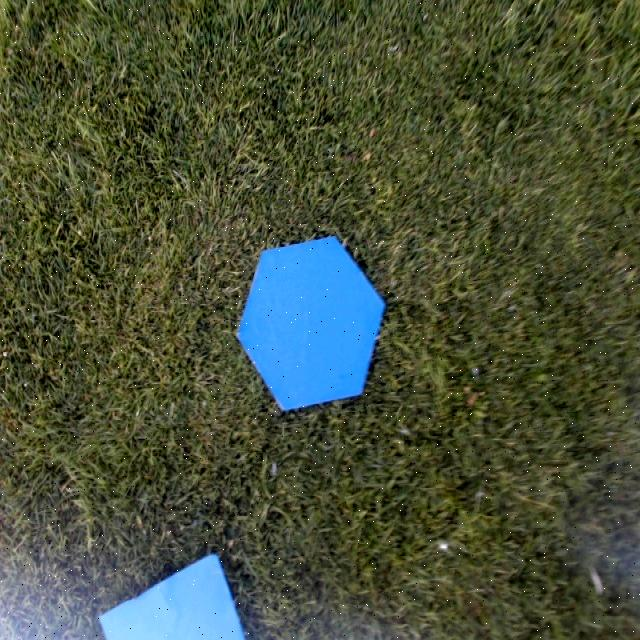blue_hexagon: (233, 234, 386, 411)
